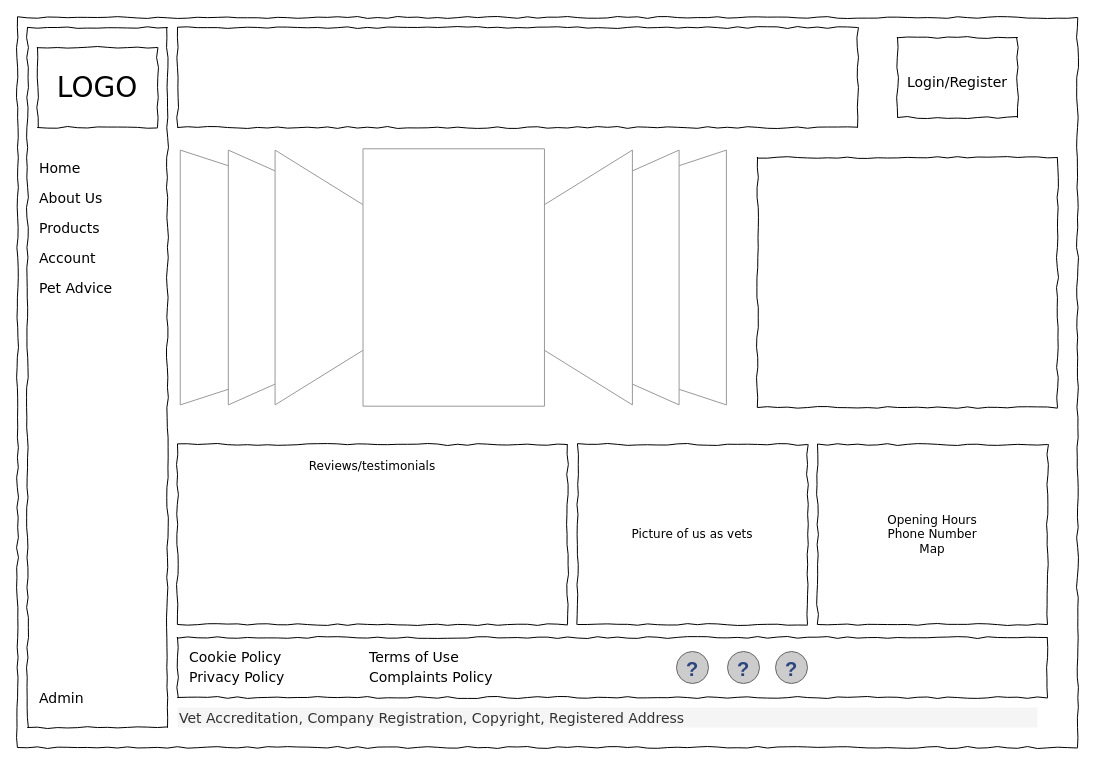
The diagram is 1095 pixels wide and 765 high, and some of its shapes have lost their labels. The shapes that lost their labels are listed below. From the top down, each one's box as (x1, y1, x2, y2) in pixels, then its label:
(176, 26, 858, 128): Vet Clinic Name
(176, 146, 728, 408): Carousel of images
(756, 156, 1058, 408): Small intro
